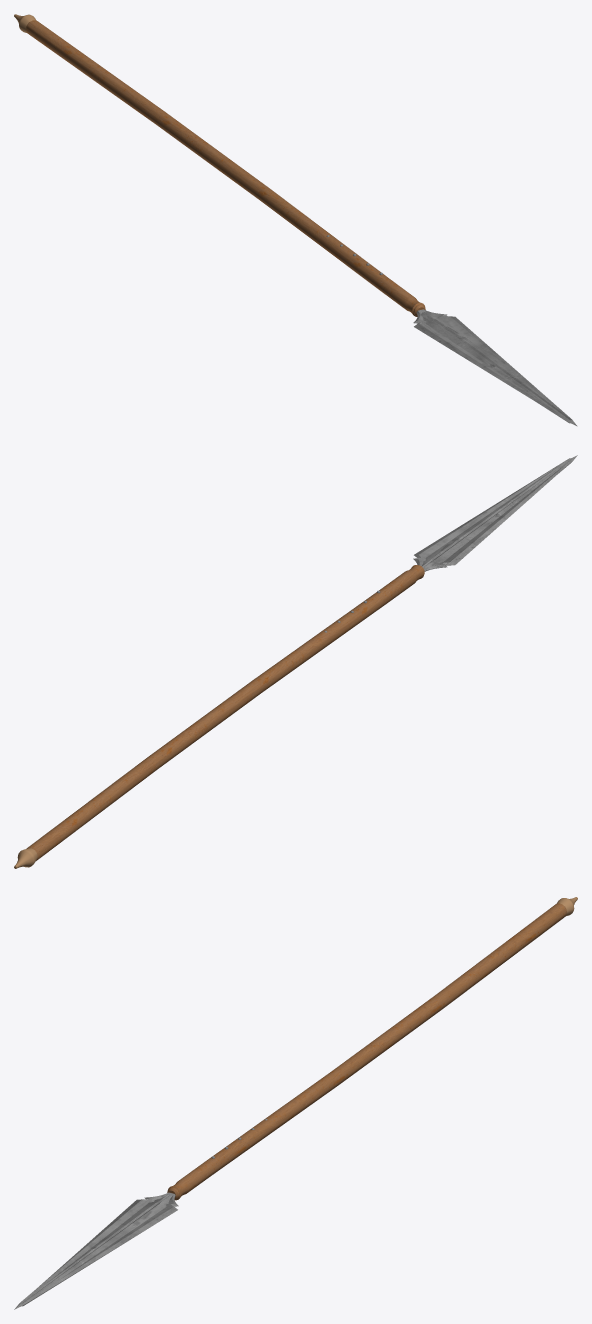
File: Spear.fbx
3 views of the same model, one above another, from view 1: azimuth 30°, elevation 25°; view 2: azimuth 150°, elevation 25°; view 3: azimuth 330°, elevation 25° (orthographic).
Visible parts, largest first — view 1: Sphere.004; view 2: Sphere.004; view 3: Sphere.004.
Part boxes in pixels (bbox=[...]): Sphere.004: bbox=[14, 14, 577, 426]; Sphere.004: bbox=[14, 455, 577, 868]; Sphere.004: bbox=[14, 897, 577, 1309].
Size of the model in its own units: 9.23 by 3.78 by 215.
